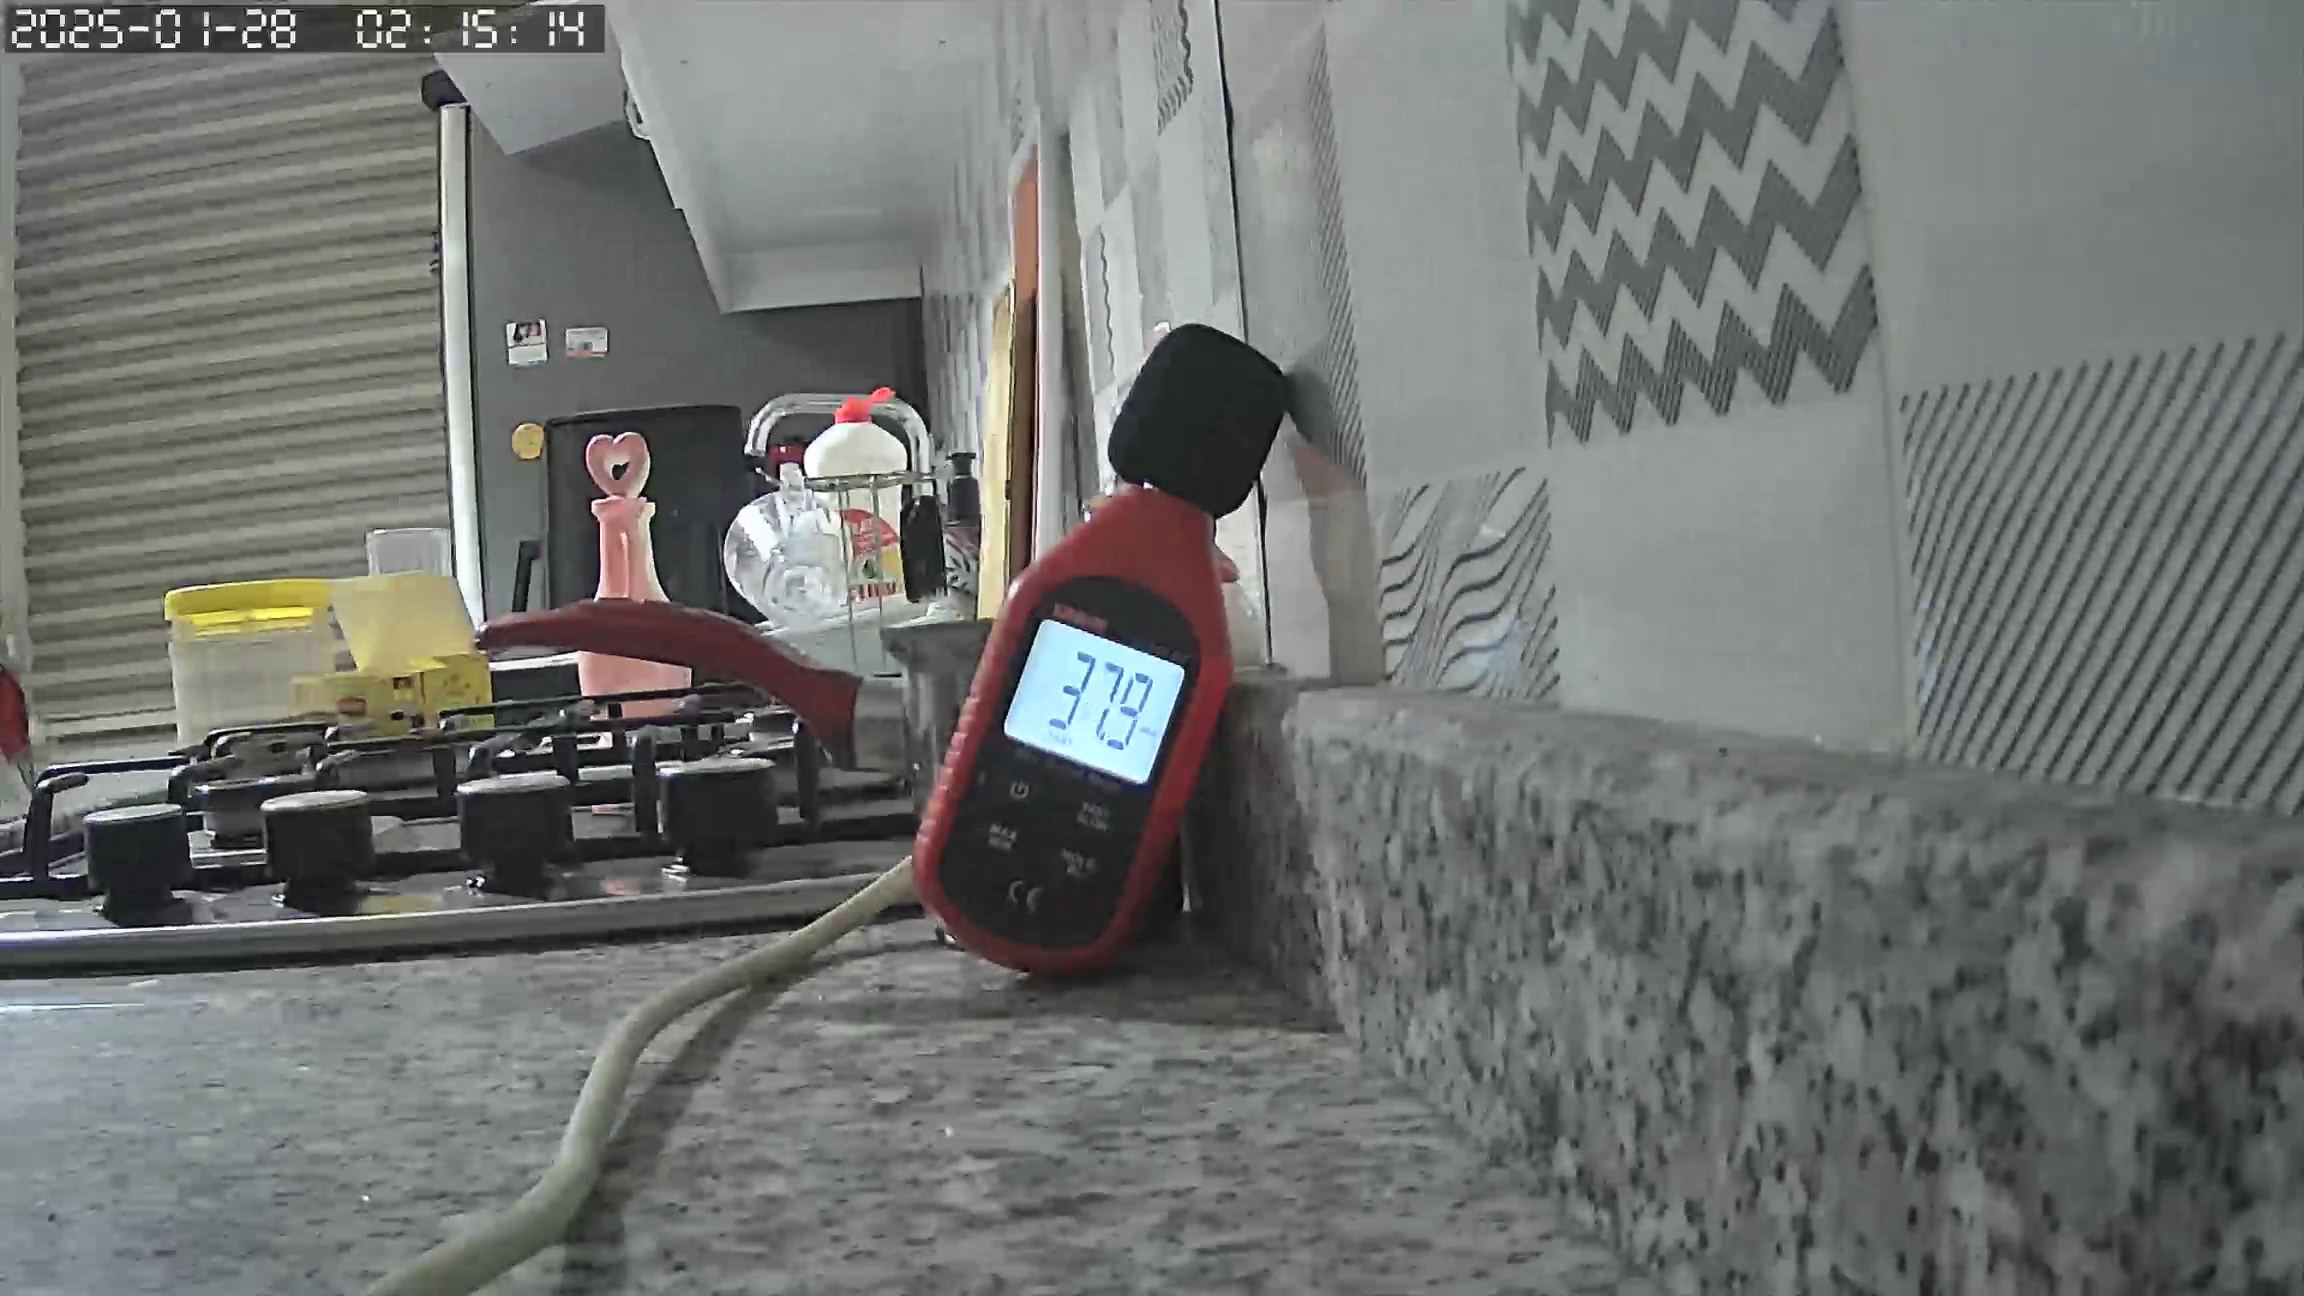screen: (1006, 617, 1184, 779)
